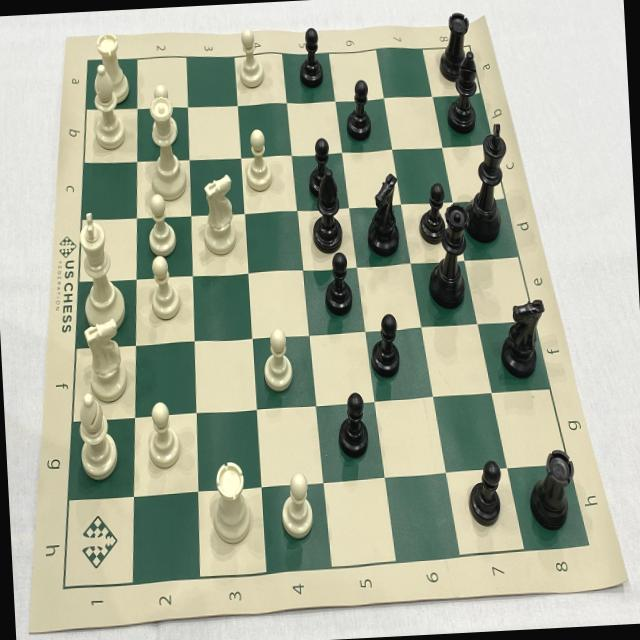black-bishop: (444, 48, 484, 136), (310, 168, 345, 255)
black-king: (459, 120, 515, 246)
black-knight: (499, 294, 548, 380), (362, 172, 404, 258)
black-pawn: (465, 458, 506, 532), (335, 387, 372, 466), (368, 310, 402, 382), (342, 76, 374, 146), (416, 180, 448, 248), (322, 251, 354, 319), (306, 135, 336, 202), (296, 24, 326, 90)
black-queen: (426, 202, 472, 312)
black-rook: (528, 446, 578, 533), (436, 10, 474, 80)
white-bishop: (76, 392, 120, 484), (89, 62, 128, 155)
white-king: (76, 208, 130, 334)
white-knight: (81, 318, 129, 405), (200, 173, 240, 261)
white-pawn: (278, 468, 316, 544), (146, 401, 183, 472), (260, 325, 295, 397), (147, 255, 182, 323), (242, 126, 275, 195), (147, 190, 178, 258), (236, 24, 266, 92), (150, 82, 179, 150)
white-queen: (144, 95, 192, 204)
white-rook: (209, 458, 256, 550), (96, 29, 132, 108)
